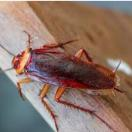cockroach: (12, 42, 121, 98)
